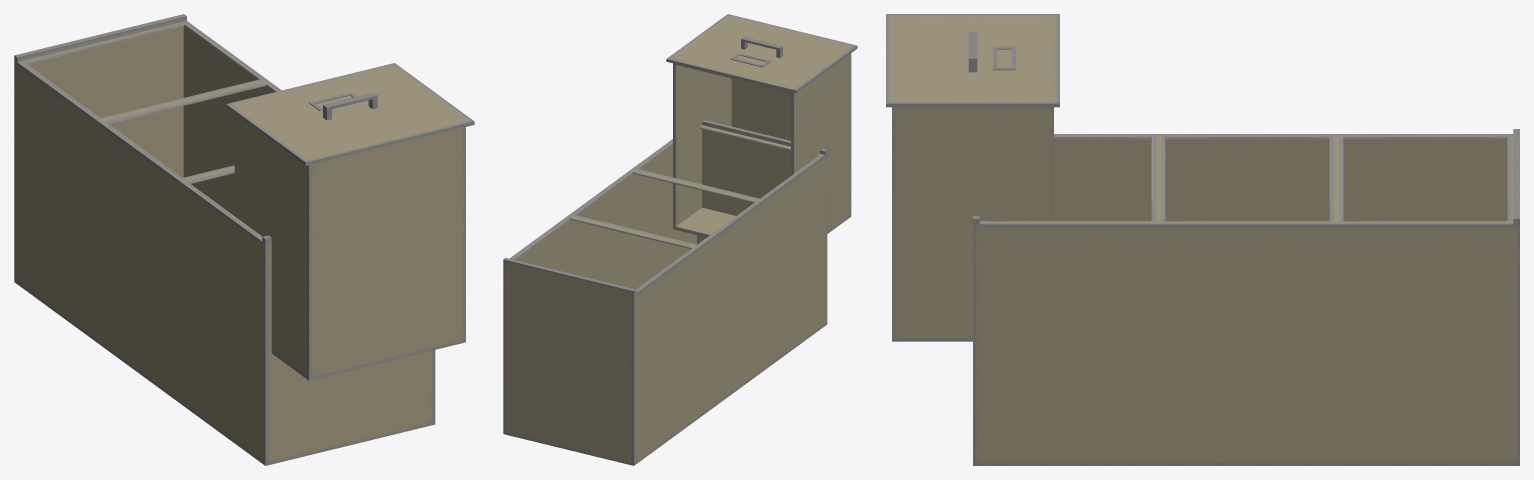
The model's file is Filing Cabnet.fbx.
3 views of the same model, side by side, from view 1: azimuth 30°, elevation 25°; view 2: azimuth 150°, elevation 25°; view 3: azimuth 270°, elevation 25° (orthographic). The views are drawn at different scales.
Visible parts, largest first — view 1: filing cabnet body, filing cabnet drawer; view 2: filing cabnet body, filing cabnet drawer; view 3: filing cabnet body, filing cabnet drawer.
Part boxes in pixels (bbox=[...]): filing cabnet body: bbox=[14, 14, 435, 465]; filing cabnet drawer: bbox=[226, 63, 474, 380]; filing cabnet body: bbox=[503, 120, 827, 465]; filing cabnet drawer: bbox=[666, 14, 857, 237]; filing cabnet body: bbox=[973, 129, 1519, 465]; filing cabnet drawer: bbox=[886, 14, 1059, 341].
Size of the model in its own units: 40 by 77.71 by 119.
